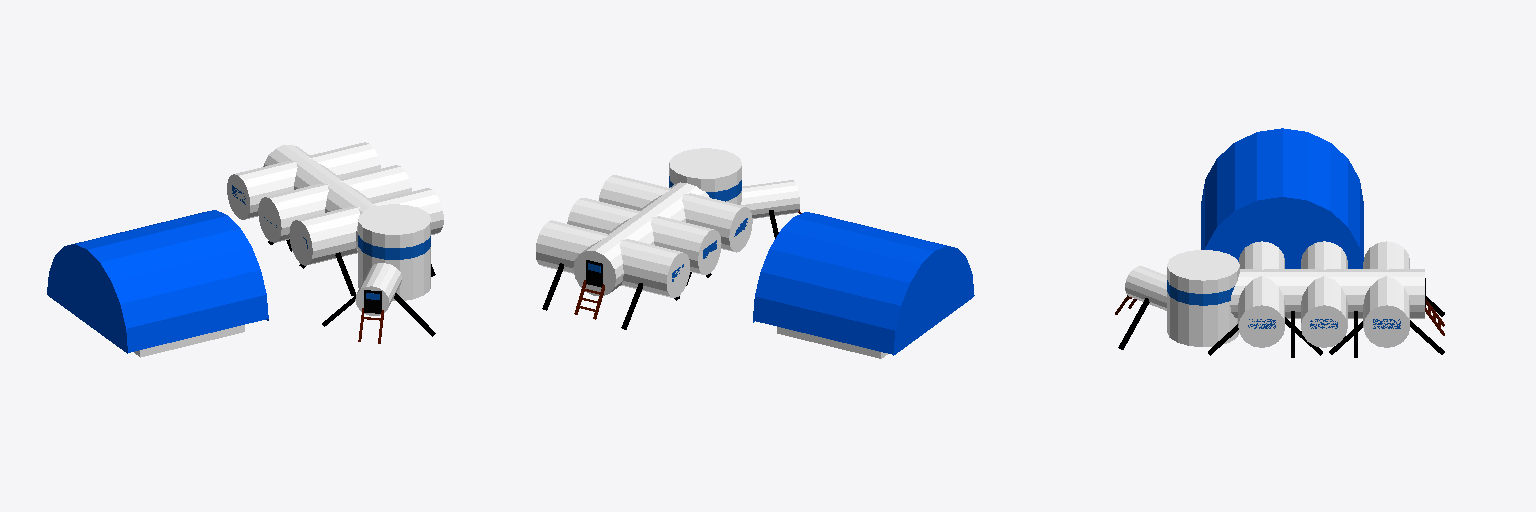
File: Greenhouseobject.obj
3 views of the same model, side by side, from view 1: azimuth 30°, elevation 25°; view 2: azimuth 150°, elevation 25°; view 3: azimuth 270°, elevation 25° (orthographic).
Visible parts, largest first — view 1: Cube.018, Cylinder, Cube.007; view 2: Cube.018, Cylinder, Cube.011; view 3: Cube.018, Cylinder.
Part boxes in pixels (left/top/right/bottom): Cube.018: left=227, top=142, right=443, bottom=343; Cylinder: left=47, top=210, right=268, bottom=353; Cube.007: left=134, top=325, right=244, bottom=357; Cube.018: left=536, top=148, right=801, bottom=329; Cylinder: left=753, top=212, right=974, bottom=355; Cube.011: left=777, top=327, right=887, bottom=358; Cube.018: left=1115, top=241, right=1444, bottom=357; Cylinder: left=1201, top=128, right=1363, bottom=268.
Size of the model in its own units: 15.5 by 4.09 by 13.28.